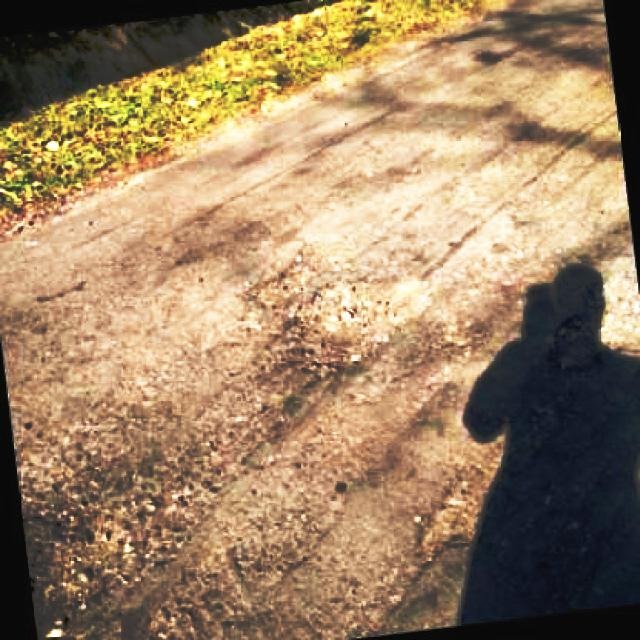pothole: (402, 280, 636, 620), (22, 451, 242, 640), (262, 258, 426, 371)
